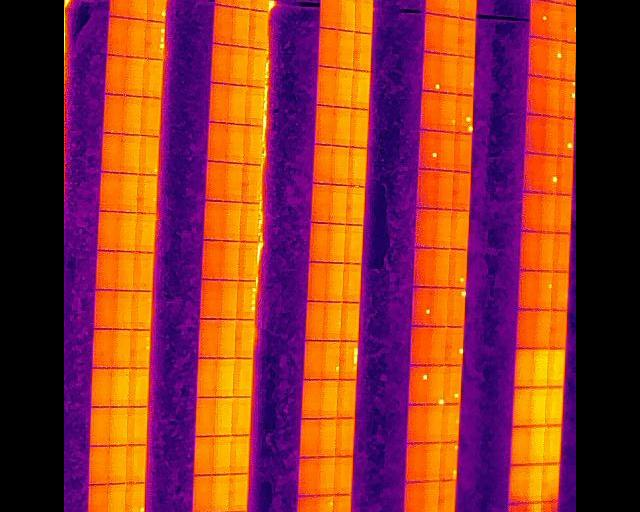Cell: (413, 287, 434, 325), (409, 366, 429, 404), (418, 131, 438, 168), (138, 174, 157, 212), (140, 136, 159, 174), (445, 325, 463, 364), (456, 55, 474, 94), (323, 340, 341, 379), (422, 53, 440, 90), (530, 0, 548, 36), (449, 249, 466, 287), (444, 365, 461, 403), (449, 287, 466, 325), (536, 269, 552, 309), (125, 482, 146, 512), (439, 93, 456, 130), (428, 365, 444, 404), (443, 404, 459, 442), (543, 155, 559, 193), (546, 40, 562, 78), (559, 116, 573, 155), (563, 4, 576, 41), (147, 0, 166, 21), (316, 494, 334, 512)
Cell-Multi: (130, 329, 150, 367), (237, 280, 256, 319), (145, 20, 164, 58), (439, 442, 457, 480), (455, 95, 473, 132), (560, 79, 576, 117)
No-Anomaly: (198, 356, 219, 396), (510, 424, 530, 464), (520, 232, 541, 270), (95, 290, 116, 328), (199, 318, 219, 357), (228, 473, 248, 512), (201, 279, 221, 318), (204, 200, 224, 239), (312, 183, 332, 222), (129, 367, 149, 406), (300, 417, 320, 456), (132, 290, 152, 329), (316, 105, 336, 144), (411, 325, 431, 364), (106, 54, 126, 93), (517, 270, 536, 310), (515, 308, 534, 348), (203, 239, 222, 279), (523, 191, 542, 231), (414, 247, 434, 285), (192, 474, 212, 512), (416, 208, 436, 246), (108, 16, 128, 54), (408, 405, 428, 443), (105, 94, 125, 132), (127, 19, 147, 57), (134, 252, 154, 290), (143, 59, 163, 97), (126, 444, 146, 482), (99, 211, 118, 250), (196, 396, 215, 435), (206, 161, 225, 200), (96, 250, 115, 289), (210, 82, 229, 121), (527, 425, 546, 464), (195, 435, 214, 474), (514, 348, 533, 387), (208, 122, 227, 161), (317, 66, 336, 105), (302, 378, 321, 417), (90, 406, 109, 445), (542, 462, 561, 501), (111, 367, 130, 406), (235, 318, 254, 357), (310, 222, 329, 261), (314, 144, 333, 183), (320, 378, 339, 417), (232, 395, 251, 434), (336, 417, 355, 456), (338, 378, 357, 417), (137, 212, 156, 251), (417, 170, 437, 207), (103, 133, 122, 171), (213, 5, 232, 43), (525, 114, 544, 152), (94, 329, 113, 367), (451, 210, 470, 248), (420, 91, 439, 129), (407, 443, 426, 481), (122, 134, 141, 172), (117, 212, 136, 250), (334, 456, 353, 494), (344, 224, 363, 262), (119, 173, 138, 211), (124, 95, 143, 133), (141, 97, 160, 135), (127, 406, 146, 444), (525, 463, 543, 503), (528, 36, 546, 76), (513, 386, 531, 426), (222, 239, 240, 279), (347, 184, 365, 224), (330, 183, 348, 223), (92, 367, 110, 406), (524, 152, 542, 191), (231, 434, 249, 473), (212, 473, 230, 512), (229, 84, 247, 123), (508, 464, 526, 503), (217, 357, 235, 396), (453, 171, 471, 210), (89, 445, 107, 484), (306, 300, 324, 339), (108, 444, 126, 483), (543, 424, 561, 463), (305, 340, 323, 379), (240, 202, 258, 241), (115, 290, 133, 329), (348, 146, 366, 185), (242, 163, 260, 202), (319, 417, 337, 456), (116, 250, 134, 289), (326, 262, 344, 301), (527, 75, 545, 113), (437, 132, 455, 170), (424, 14, 442, 52), (212, 44, 230, 82), (230, 46, 248, 84), (100, 172, 118, 210), (436, 170, 454, 208), (545, 387, 563, 425), (126, 57, 144, 95), (234, 357, 252, 395), (298, 457, 316, 495), (112, 329, 130, 367), (352, 70, 370, 108), (342, 302, 360, 340), (317, 456, 335, 494), (318, 28, 336, 66), (405, 481, 427, 512), (436, 208, 453, 248), (220, 278, 237, 318), (454, 134, 472, 171), (218, 318, 235, 357), (223, 201, 240, 240), (226, 162, 243, 201), (227, 123, 244, 162), (214, 435, 231, 474), (430, 326, 447, 365), (215, 396, 232, 435), (246, 86, 263, 125), (353, 31, 370, 70), (548, 347, 565, 386), (109, 406, 126, 445), (552, 270, 569, 309), (233, 7, 250, 46), (550, 309, 567, 348), (344, 262, 361, 301), (350, 108, 367, 147), (329, 223, 346, 262), (244, 125, 261, 164), (440, 54, 457, 92), (239, 241, 256, 279), (248, 48, 265, 86), (324, 302, 341, 340), (250, 10, 267, 48), (332, 146, 349, 184), (308, 262, 325, 300), (530, 386, 546, 425), (534, 309, 550, 348), (424, 442, 440, 481), (426, 403, 442, 442), (544, 116, 560, 155), (336, 67, 352, 106), (557, 154, 573, 193), (542, 192, 558, 231), (334, 107, 350, 146), (442, 18, 459, 54), (459, 18, 475, 56), (434, 248, 450, 286), (337, 30, 353, 68), (554, 232, 570, 270), (561, 40, 576, 80), (545, 76, 560, 116), (532, 347, 547, 386), (438, 480, 456, 512), (433, 287, 448, 325), (106, 482, 125, 512), (548, 2, 563, 40), (557, 193, 571, 232), (88, 484, 107, 512), (321, 0, 340, 28), (540, 232, 554, 269), (356, 0, 372, 32), (340, 0, 355, 31), (426, 479, 440, 512), (129, 0, 148, 19), (333, 494, 351, 512), (110, 0, 130, 16), (459, 0, 476, 18), (296, 496, 315, 512), (443, 0, 460, 17), (425, 0, 443, 14), (251, 0, 268, 10), (234, 0, 251, 9)
Shadowing: (540, 500, 559, 512), (506, 503, 524, 512), (524, 502, 540, 512)
Unclassified: (339, 340, 357, 379)
